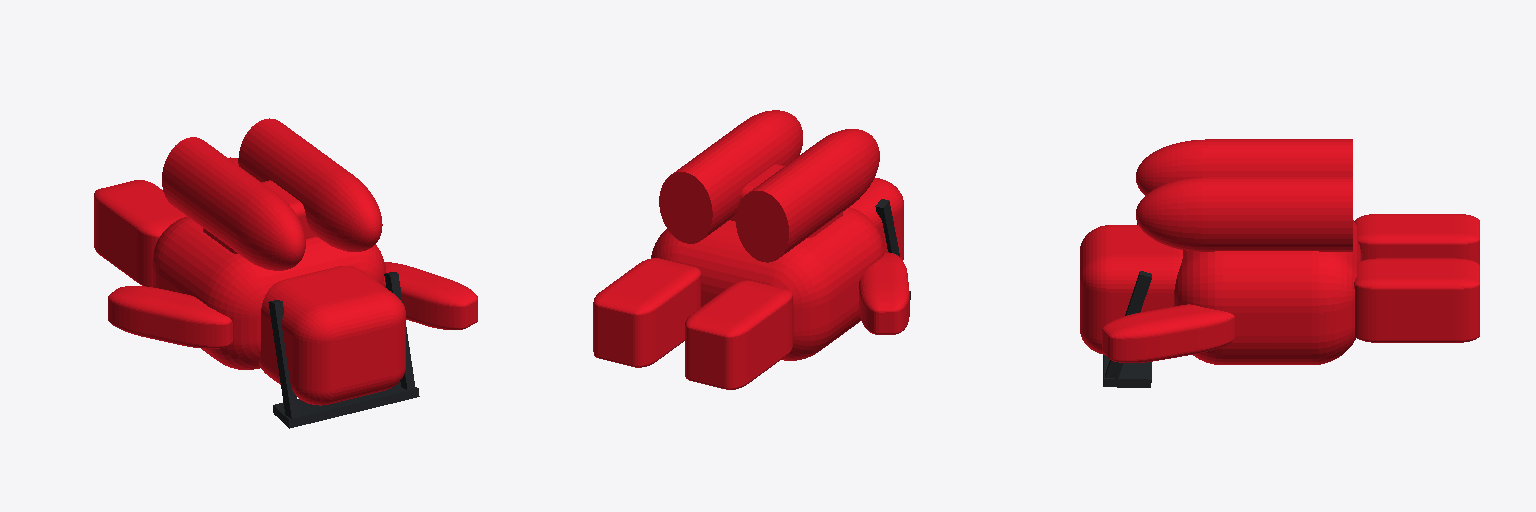
The model's file is astroman.obj.
3 renders of one model, left to right at view 1: azimuth 30°, elevation 25°; view 2: azimuth 150°, elevation 25°; view 3: azimuth 270°, elevation 25°, orthographic.
Parts seen in each view (by area): view 1: obj_0; view 2: obj_0; view 3: obj_0.
Part boxes in pixels (x1,y1,x2,y2): obj_0: (94,118,477,428); obj_0: (593,110,910,389); obj_0: (1080,139,1479,387).
Bounding box in the file's own units: 69.04 × 46.64 × 85.48.